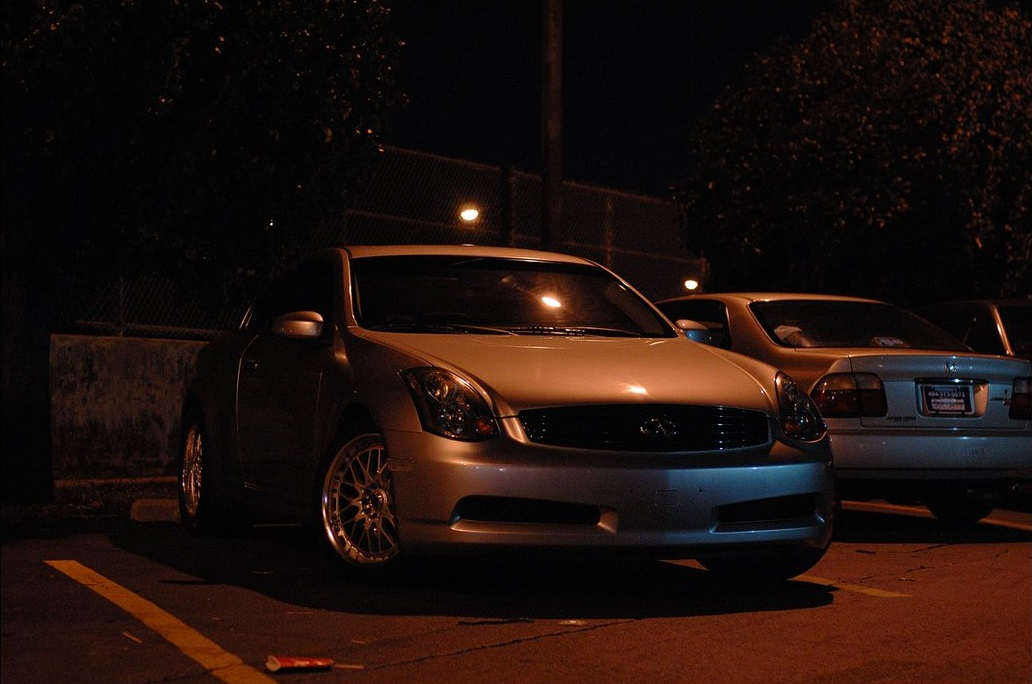car: (636, 275, 1029, 548)
